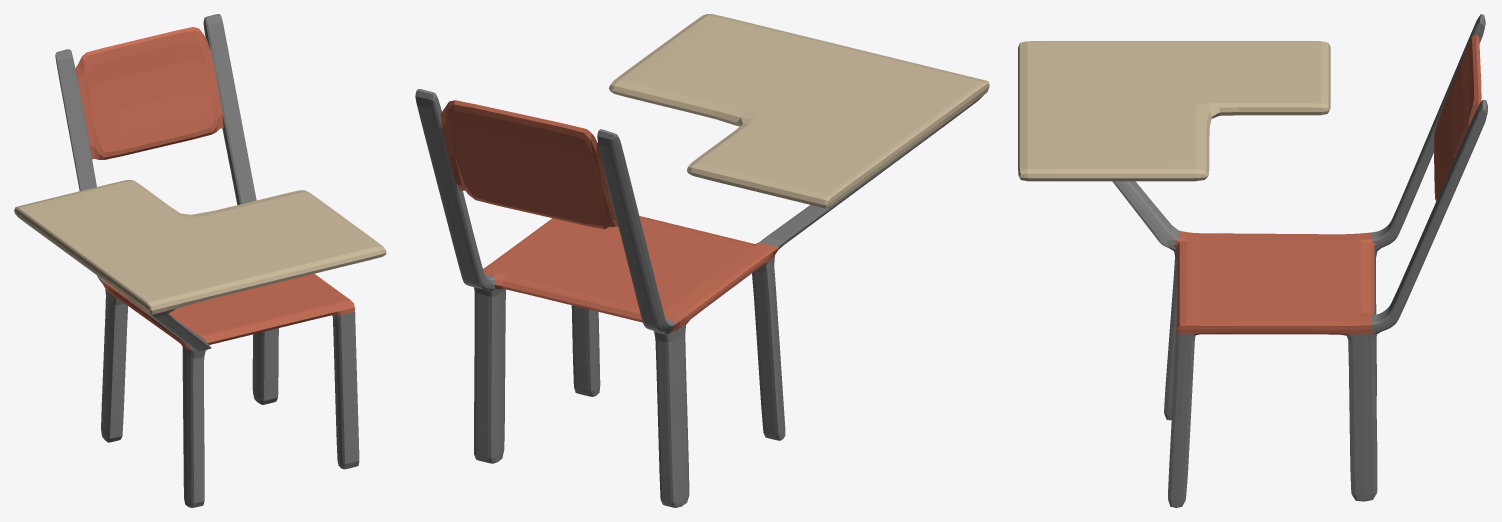
File: sandalye.fbx
The picture shows the model from 3 angles, left to right: view 1: azimuth 30°, elevation 25°; view 2: azimuth 150°, elevation 25°; view 3: azimuth 270°, elevation 25°; orthographic projection. The views are drawn at different scales.
Visible parts, largest first — view 1: Plane; view 2: Plane; view 3: Plane.
Part boxes in pixels (x1,y1,x2,y2): Plane: (14, 14, 386, 507); Plane: (415, 14, 989, 507); Plane: (1018, 14, 1487, 507).
Bounding box in the file's own units: 231 × 283 × 299.
